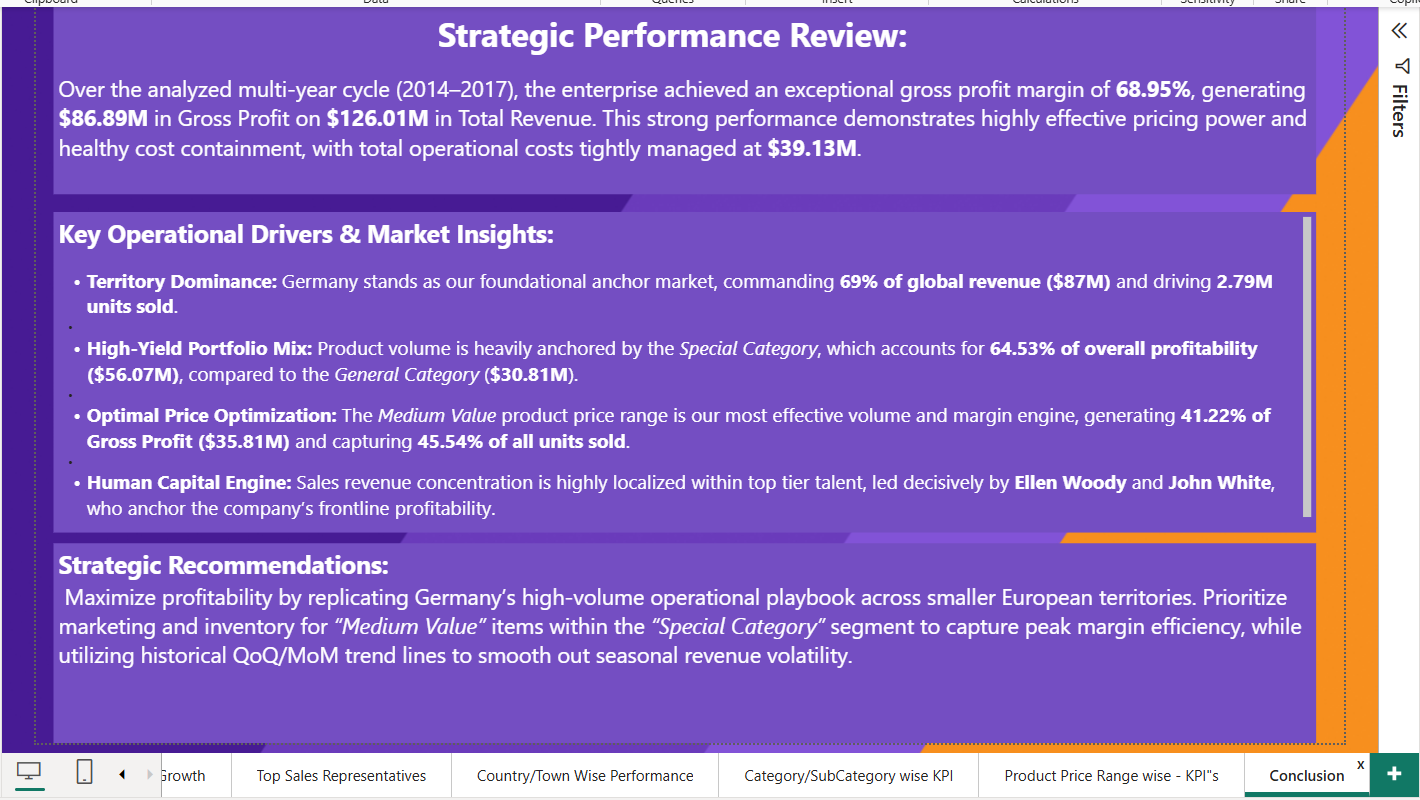

What the dashboard file says about the page in this screenshot:
{"tool":"powerbi","page":{"name":"Conclusion","canvas":[1280,720],"ordinal":8},"visuals":[{"type":"textbox","box":[17.4,0,1235.5,182.9],"z":0},{"type":"textbox","box":[17.4,200.3,1235.5,313.5],"z":1000},{"type":"textbox","box":[17,524,1235,196],"z":2000}]}

Visuals, with their boxes on the page's 1280x720 design canvas (x1, y1, x2, y2). These are canvas units, not pixel positions in the 1420x800 screenshot, which may show the page scaled, cropped or inside an application window:
textbox: (left=17, top=0, right=1253, bottom=183)
textbox: (left=17, top=200, right=1253, bottom=514)
textbox: (left=17, top=524, right=1252, bottom=720)
